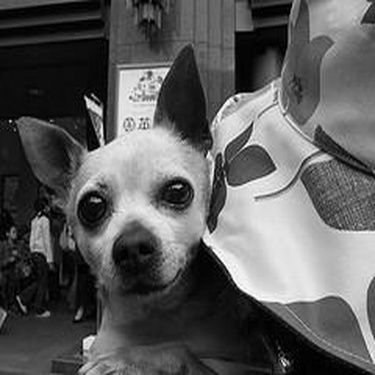dog: (14, 40, 322, 373)
